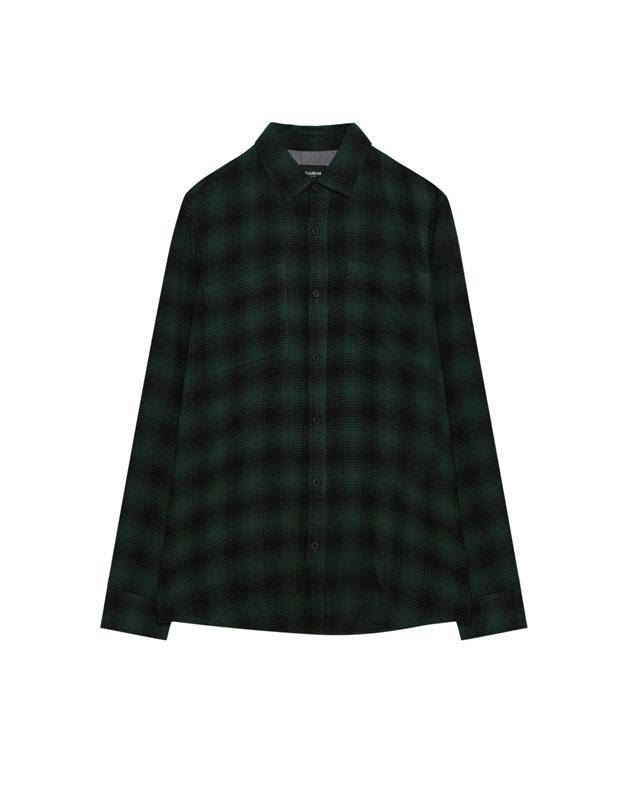teeshirt: (95, 109, 535, 680)
